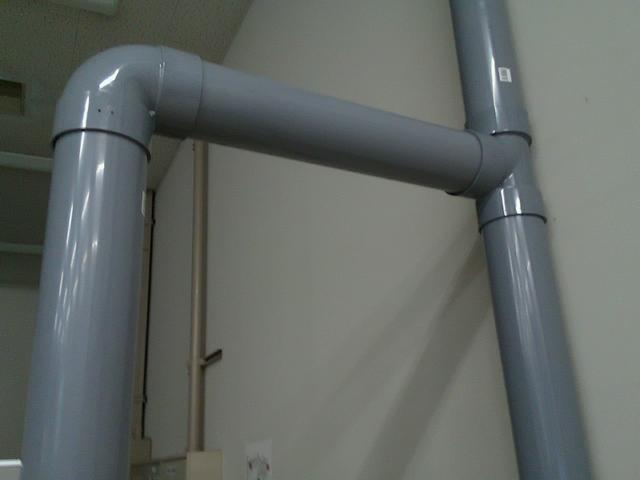bent: (48, 41, 201, 156)
junction: (442, 105, 545, 221)
